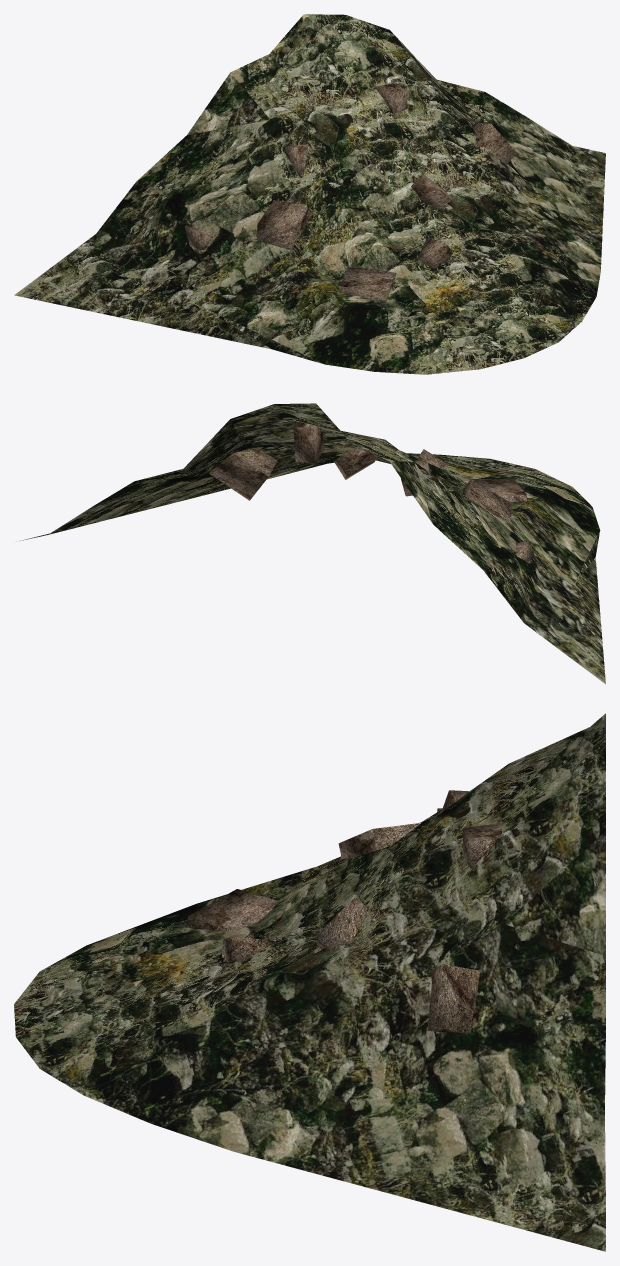
The model's file is ADDON_DUNGEON_SCHUTT_01.glb.
3 renders of one model, top to bottom at view 1: azimuth 30°, elevation 25°; view 2: azimuth 150°, elevation 25°; view 3: azimuth 270°, elevation 25°, orthographic. The views are drawn at different scales.
Visible parts, largest first — view 1: Mesh; view 2: Mesh; view 3: Mesh.
Part boxes in pixels (box(x1,y1,x2,y2)): Mesh: box(14, 14, 605, 374); Mesh: box(19, 403, 605, 684); Mesh: box(14, 713, 605, 1251).
Bounding box in the file's own units: 3.72 × 1.28 × 2.15.
2 materials, 2 textured.
